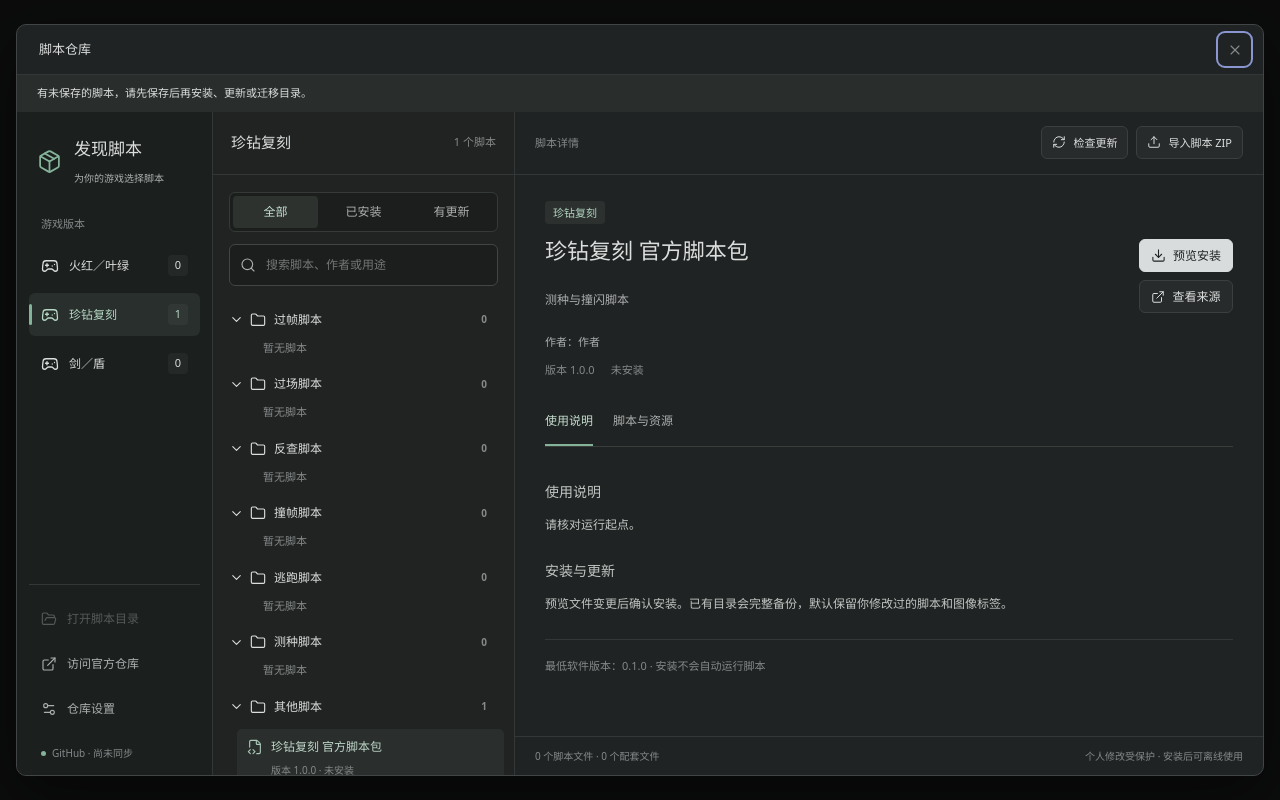
unsaved scripts block directory migration
Expected: the button "预览安装" is shown, left=1139, top=239, right=1233, bottom=272
What coordinates should you click on to do the following:
click the button "仓库设置"
I would click on:
 (114, 708)
Its box is left=29, top=687, right=200, bottom=730.
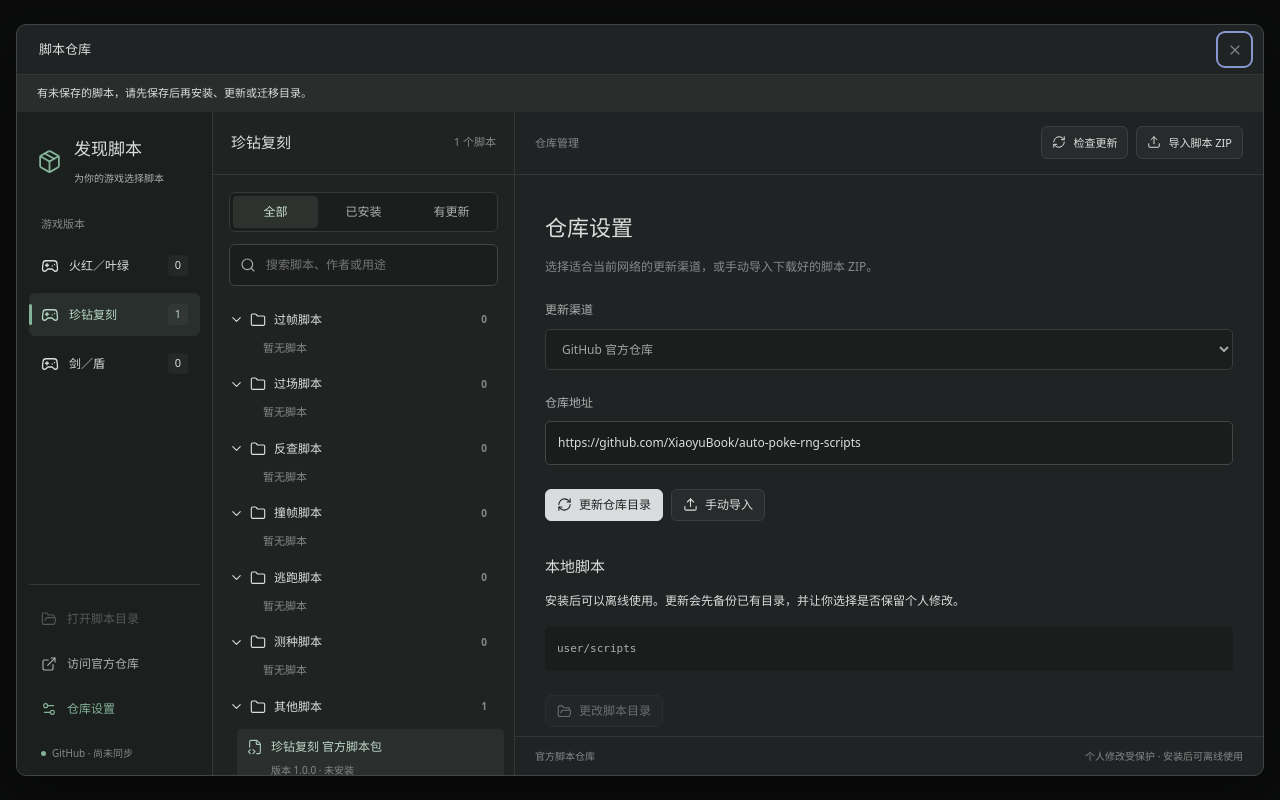
Expected: the button "更改脚本目录" is disabled, left=545, top=695, right=663, bottom=727
